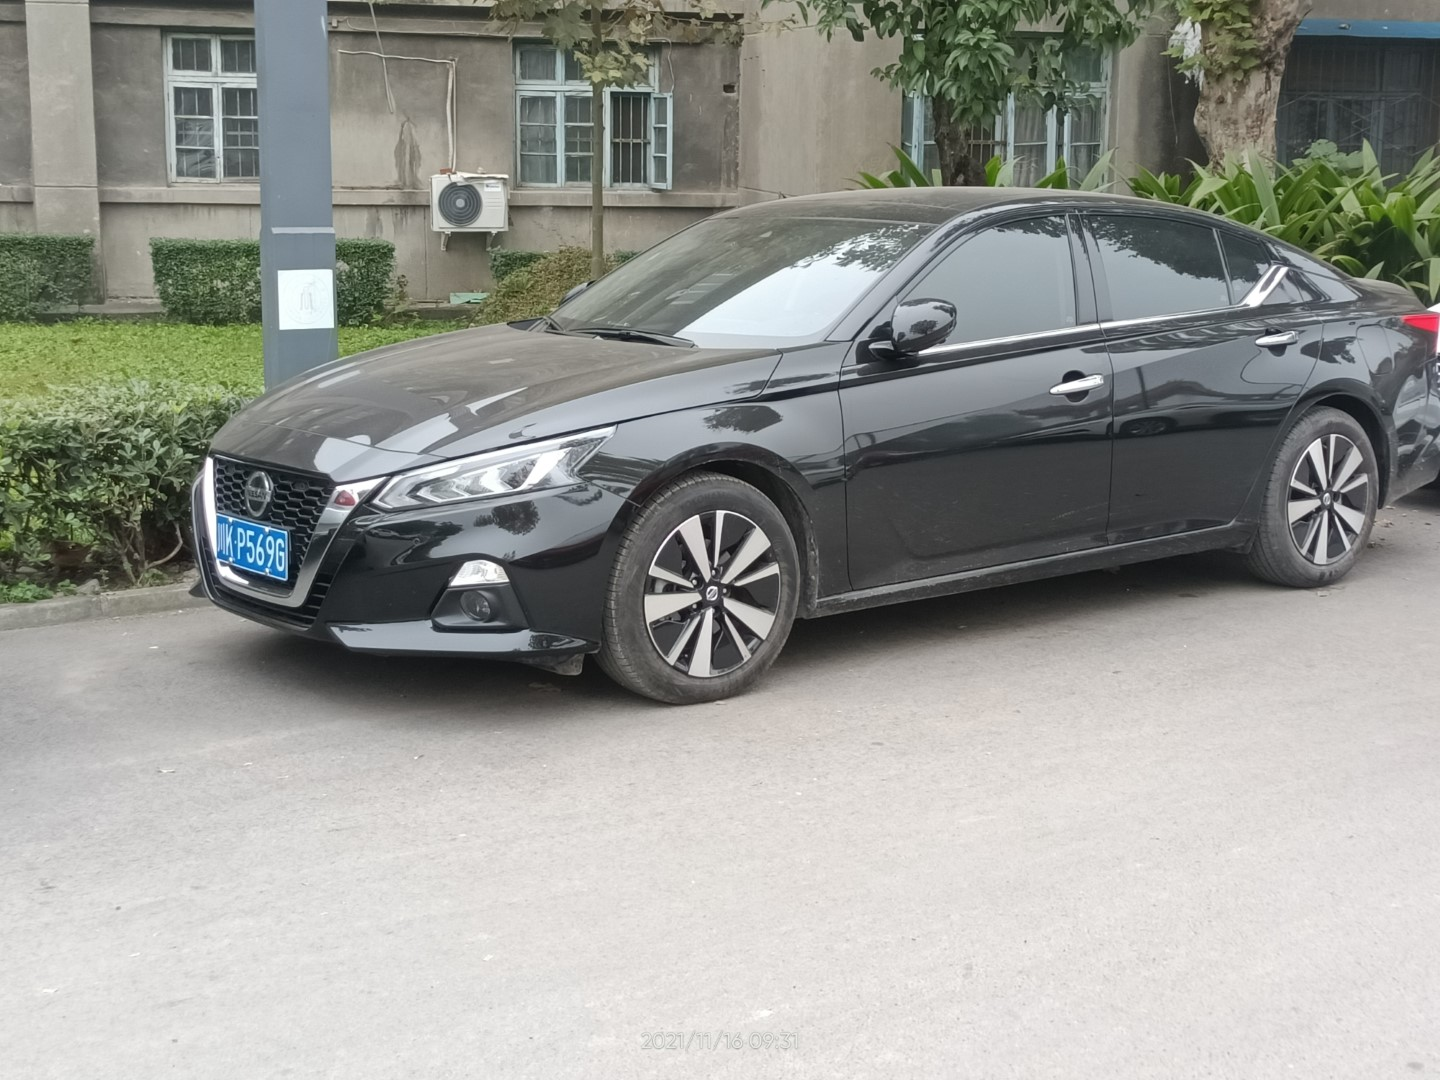plate: (214, 511, 289, 582)
